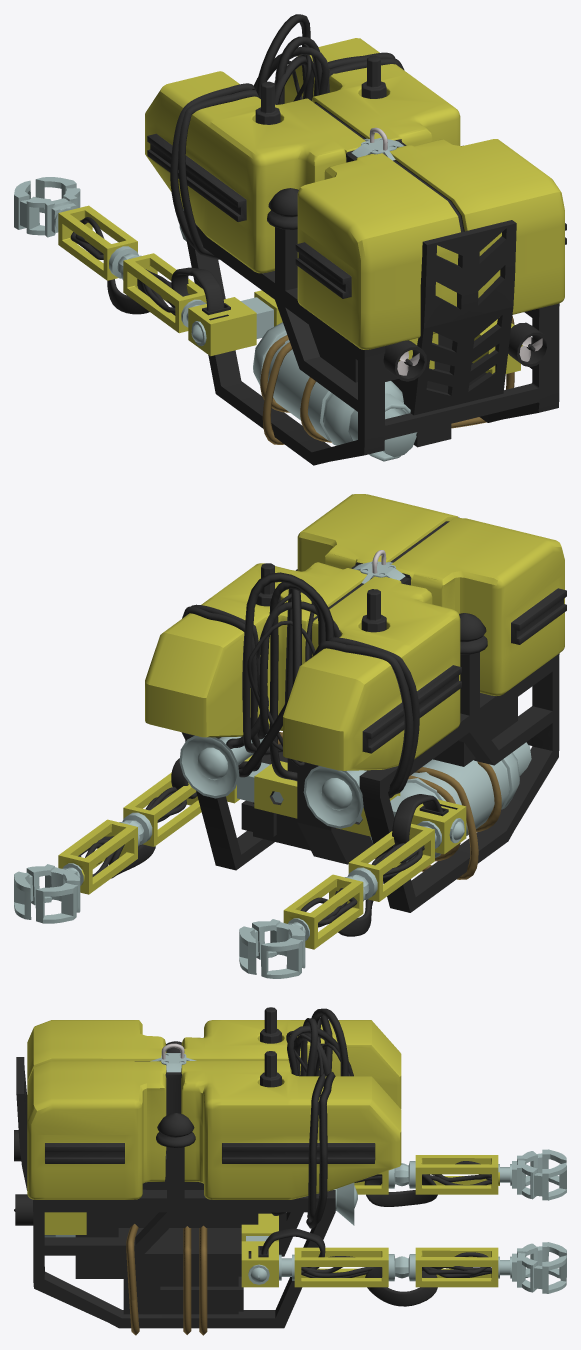
Rendered from ROV_Test_2.fbx.
3 views of the same model, one above another, from view 1: azimuth 30°, elevation 25°; view 2: azimuth 150°, elevation 25°; view 3: azimuth 270°, elevation 25° (orthographic). The views are drawn at different scales.
Parts seen in each view (by area): view 1: ROV, ARML, Cylinder.032, Cylinder.056, Cylinder.031, Cylinder.009, Cylinder.057; view 2: ROV, ARML, armR, Cylinder.032, Cylinder.031, Cylinder.009, Cylinder.056, Cylinder.008, Cylinder.057; view 3: ROV, armR, ARML, Cylinder.032, Cylinder.055, Cylinder.057, Cylinder.042, Cylinder.031, Cylinder.054, Cylinder.036, Cylinder.009, Cylinder.051.
Part boxes in pixels (bbox=[...]): ROV: bbox=[145, 38, 566, 465]; ARML: bbox=[14, 177, 282, 356]; Cylinder.032: bbox=[253, 36, 329, 104]; Cylinder.056: bbox=[171, 267, 224, 311]; Cylinder.031: bbox=[256, 14, 313, 98]; Cylinder.009: bbox=[275, 55, 316, 104]; Cylinder.057: bbox=[107, 279, 149, 314]; ROV: bbox=[145, 494, 566, 912]; ARML: bbox=[239, 793, 466, 978]; armR: bbox=[14, 755, 297, 923]; Cylinder.032: bbox=[269, 582, 367, 781]; Cylinder.031: bbox=[242, 572, 334, 755]; Cylinder.009: bbox=[257, 592, 341, 766]; Cylinder.056: bbox=[392, 794, 443, 850]; Cylinder.008: bbox=[247, 620, 315, 751]; Cylinder.057: bbox=[333, 883, 383, 936]; ROV: bbox=[14, 1007, 401, 1335]; armR: bbox=[241, 1213, 566, 1293]; ARML: bbox=[354, 1149, 566, 1200]; Cylinder.032: bbox=[271, 1018, 353, 1215]; Cylinder.055: bbox=[365, 1267, 437, 1306]; Cylinder.057: bbox=[364, 1174, 437, 1206]; Cylinder.042: bbox=[422, 1252, 491, 1277]; Cylinder.031: bbox=[311, 1008, 348, 1076]; Cylinder.054: bbox=[261, 1228, 325, 1273]; Cylinder.036: bbox=[301, 1256, 373, 1277]; Cylinder.009: bbox=[286, 1031, 330, 1076]; Cylinder.051: bbox=[422, 1161, 491, 1185].
Size of the model in its own units: 480 by 556 by 958.
